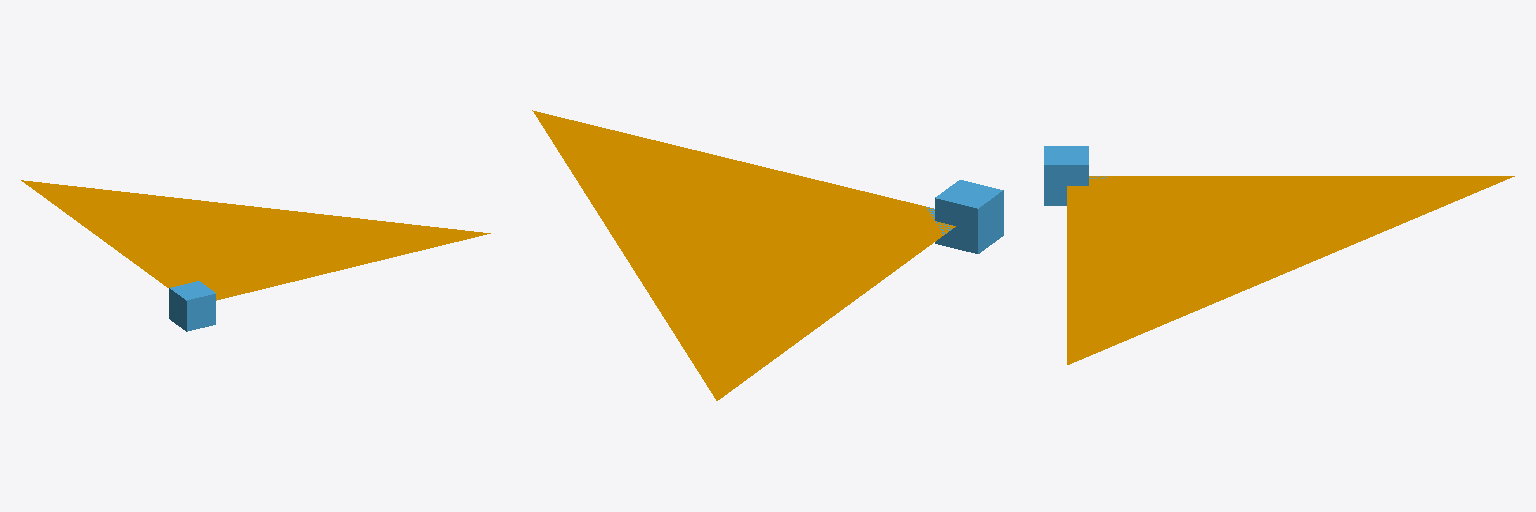
URDF robot description (cabinet):
<?xml version="1.0"?>
<robot name="cabinet">
  <link name="body">
    <visual><geometry><mesh filename="meshes/door.stl"/></geometry></visual>
  </link>
  <link name="drawer">
    <visual><geometry><mesh filename="package://kitchen/meshes/handle.obj"/></geometry></visual>
    <visual><geometry><box size="0.1 0.1 0.1"/></geometry></visual>
  </link>
  <joint name="slide" type="prismatic">
    <parent link="body"/>
    <child link="drawer"/>
    <limit lower="0" upper="0.4" effort="1" velocity="1"/>
  </joint>
</robot>

--- Render facts (derived) ---
3 views of the same robot in one strip: view 1: azimuth 30°, elevation 25°; view 2: azimuth 150°, elevation 25°; view 3: azimuth 270°, elevation 25° (orthographic).
Model cabinet with 2 links and 1 joints (1 prismatic), rooted at body, posed all joints at 0.
Visible links, largest first — view 1: body, drawer; view 2: body, drawer; view 3: body, drawer.
Link boxes in pixels (x1,y1,x2,y2): body: (21,180,490,300); drawer: (169,281,218,331); body: (532,110,955,400); drawer: (926,180,1003,253); body: (1067,176,1514,364); drawer: (1044,146,1106,205).
Bounding box of the posed robot: 1.05 × 1.05 × 0.1 m (x, y, z).
2 mesh visuals loaded from 2 distinct referenced files (1 ASCII STL, 1 OBJ).
